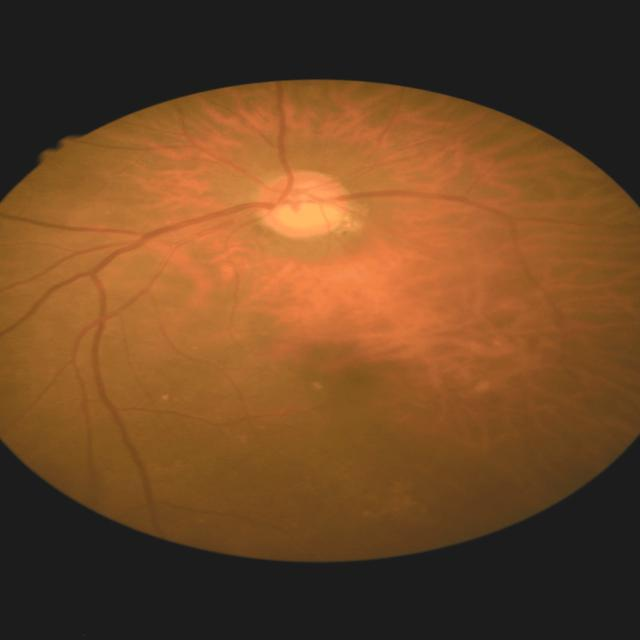cup: (270, 184, 338, 228)
disk: (255, 168, 354, 238)
